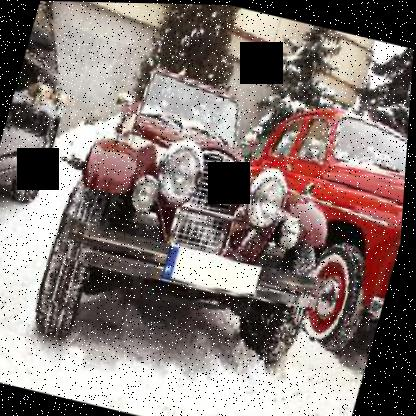not_emergency: (0, 9, 404, 410)
